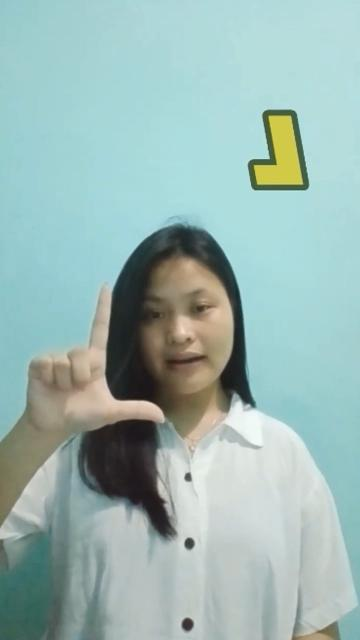L: (15, 284, 165, 436)
